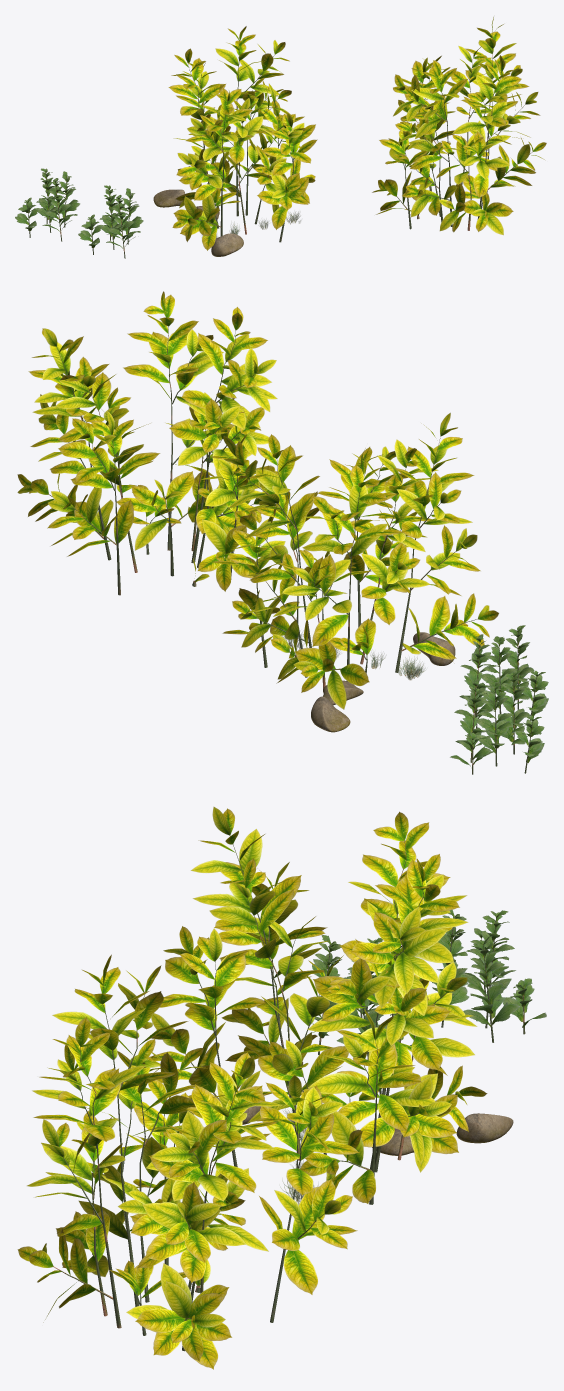
The model's file is plants-scene-gallery-optimized.glb.
3 renders of one model, top to bottom at view 1: azimuth 30°, elevation 25°; view 2: azimuth 150°, elevation 25°; view 3: azimuth 270°, elevation 25°, orthographic. The views are drawn at different scales.
Visible parts, largest first — view 1: Leaves.003_3511, Leaves.001_3507, Leaves_3505, Leaves.002_3509, YellowPlantStem_3508, YellowPlantStem.001_3512, Rock.002_3520, Rock.001_3519; view 2: Leaves.001_3507, Leaves.003_3511, Leaves.002_3509, Leaves_3505, YellowPlantStem.001_3512, YellowPlantStem_3508, Rock.001_3519; view 3: Leaves.001_3507, Leaves.003_3511, Leaves.002_3509, YellowPlantStem.001_3512, YellowPlantStem_3508, Leaves_3505, Rock.001_3519.
Boxes of the visible parts, x1,y1,x2,y2 form: Leaves.003_3511: (372,17,546,235); Leaves.001_3507: (168,26,317,250); Leaves_3505: (78,185,143,248); Leaves.002_3509: (15,168,80,231); YellowPlantStem_3508: (188,41,293,242); YellowPlantStem.001_3512: (396,33,532,230); Rock.002_3520: (211,233,243,256); Rock.001_3519: (153,189,184,207); Leaves.001_3507: (211,412,498,709); Leaves.003_3511: (17,291,278,591); Leaves.002_3509: (450,670,544,766); Leaves_3505: (454,625,548,718); YellowPlantStem.001_3512: (49,314,254,595); YellowPlantStem_3508: (244,438,477,688); Rock.001_3519: (311,696,350,732); Leaves.001_3507: (150,806,487,1203); Leaves.003_3511: (17,954,359,1369); Leaves.002_3509: (431,909,546,1027); YellowPlantStem.001_3512: (53,987,324,1351); YellowPlantStem_3508: (185,841,446,1204); Leaves_3505: (312,935,411,1054); Rock.001_3519: (456,1113,513,1143).
Bounding box in the file's own units: 10.74 × 4.07 × 5.9.
6 materials, 6 textured.
